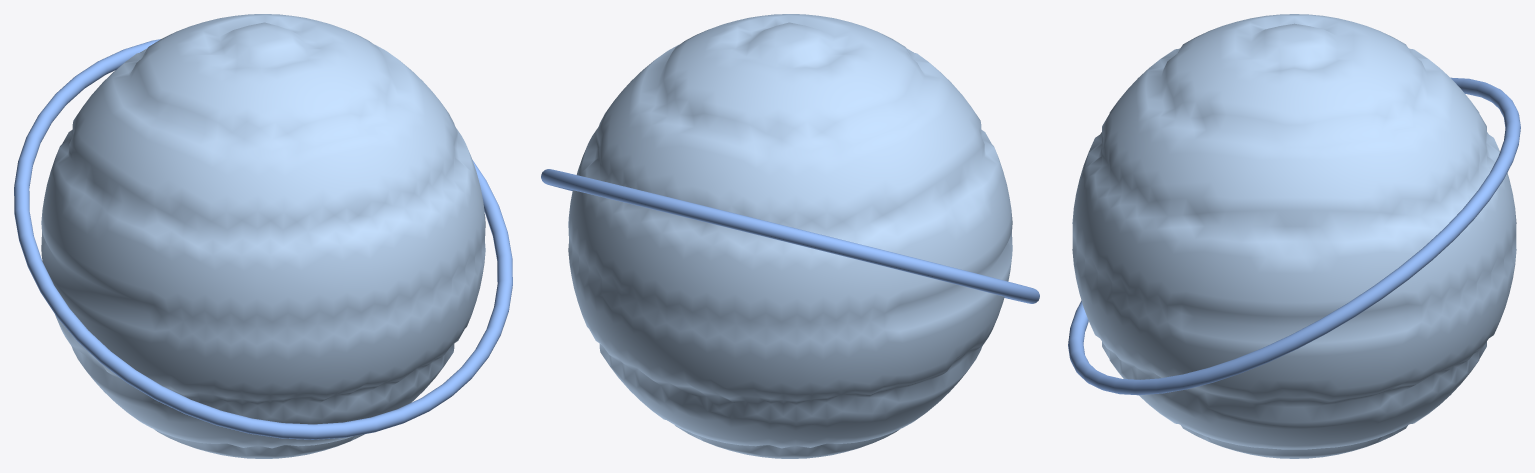
The model's file is moonlight.fbx.
3 renders of one model, left to right at view 1: azimuth 30°, elevation 25°; view 2: azimuth 150°, elevation 25°; view 3: azimuth 270°, elevation 25°, orthographic.
Visible parts, largest first — view 1: moonlight; view 2: moonlight; view 3: moonlight.
Part boxes in pixels (box(x1,y1,x2,y2)): moonlight: box(14, 14, 512, 458); moonlight: box(541, 14, 1039, 458); moonlight: box(1068, 14, 1520, 458).
Size of the model in its own units: 0.07 by 0.0606 by 0.0617.
1 material, 1 textured.
